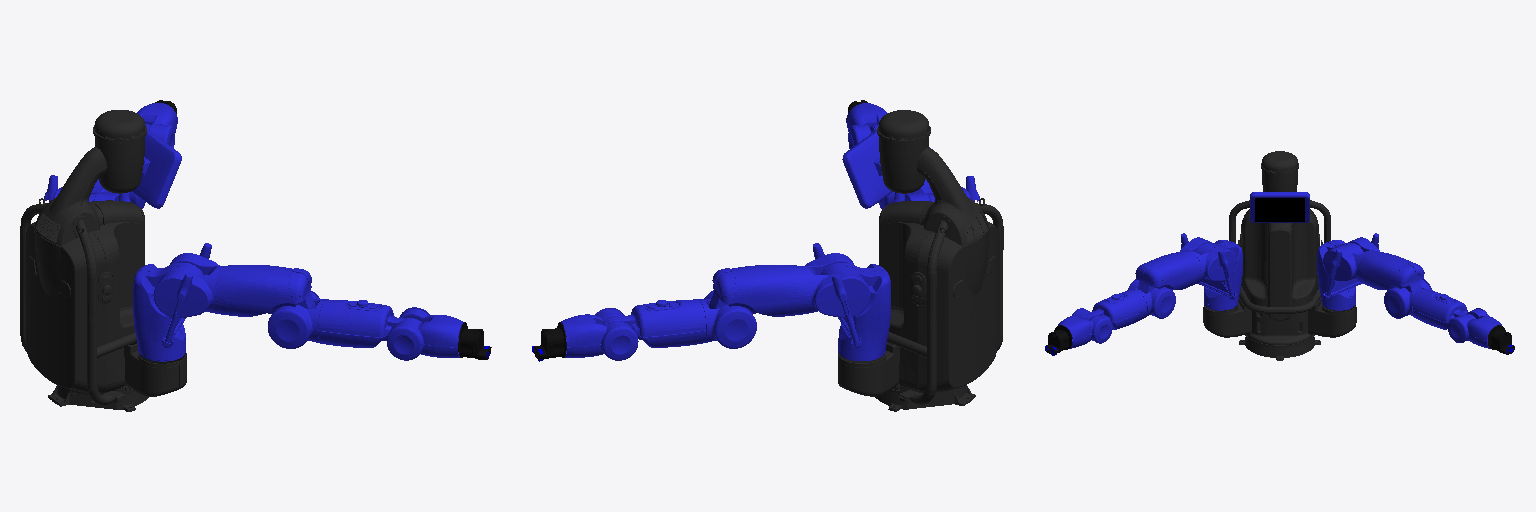
--- Render facts (derived) ---
3 views of the same robot in one strip: view 1: azimuth 30°, elevation 25°; view 2: azimuth 150°, elevation 25°; view 3: azimuth 270°, elevation 25° (orthographic).
Model baxter with 51 links and 50 joints (17 revolute, 33 fixed), rooted at base, posed every joint at zero.
Visible links, largest first — view 1: torso, right_upper_elbow, right_upper_shoulder, right_upper_forearm, right_lower_forearm, right_lower_shoulder, screen, right_lower_elbow, left_lower_forearm, right_wrist, head; view 2: torso, left_upper_elbow, left_upper_shoulder, left_upper_forearm, left_lower_forearm, left_lower_shoulder, screen, left_lower_elbow, right_lower_forearm, left_wrist, head; view 3: torso, left_upper_elbow, right_upper_elbow, right_upper_shoulder, left_upper_shoulder, right_upper_forearm, left_upper_forearm, left_lower_forearm, right_lower_forearm, display, left_lower_shoulder, right_lower_shoulder (+5 smaller).
Link boxes in pixels (box(x1,y1,x2,y2)): torso: box(20, 110, 186, 411); right_upper_elbow: box(214, 265, 315, 316); right_upper_shoulder: box(133, 243, 211, 361); right_upper_forearm: box(318, 299, 421, 347); right_lower_forearm: box(387, 307, 463, 360); right_lower_shoulder: box(153, 253, 221, 317); screen: box(132, 129, 181, 208); right_lower_elbow: box(268, 291, 325, 348); left_lower_forearm: box(137, 103, 177, 147); right_wrist: box(458, 322, 491, 359); head: box(99, 166, 142, 193); torso: box(838, 110, 1003, 411); left_upper_elbow: box(709, 265, 809, 316); left_upper_shoulder: box(813, 243, 890, 360); left_upper_forearm: box(601, 299, 705, 347); left_lower_forearm: box(561, 308, 638, 360); left_lower_shoulder: box(803, 253, 870, 317); screen: box(842, 130, 892, 208); left_lower_elbow: box(699, 290, 756, 348); right_lower_forearm: box(846, 103, 887, 148); left_wrist: box(534, 322, 566, 359); head: box(881, 166, 924, 193); torso: box(1203, 151, 1356, 360); left_upper_elbow: box(1357, 251, 1424, 293); right_upper_elbow: box(1135, 251, 1202, 293); right_upper_shoulder: box(1181, 233, 1242, 310); left_upper_shoulder: box(1317, 233, 1378, 310); right_upper_forearm: box(1083, 289, 1146, 329); left_upper_forearm: box(1413, 289, 1475, 329); left_lower_forearm: box(1448, 308, 1501, 348); right_lower_forearm: box(1058, 308, 1112, 348); display: box(1255, 198, 1304, 221); left_lower_shoulder: box(1323, 237, 1379, 281); right_lower_shoulder: box(1180, 237, 1236, 281).
Size in the robot's own frame: 1.06 by 2.07 by 0.9368 metres.
Meshes: 13 distinct files referenced, 17 mesh visuals loaded (10 binary STL); not drawn: 5 (reference not matched to a file when rendering).

URDF robot description (baxter):
<?xml version="1.0" encoding="utf-8"?>
<!-- =================================================================================== -->
<!-- |    This document was autogenerated by xacro from [local-path]/projects/mpi_system_baxter/workspace/src/catkin/robots/baxter_robot_model/models/baxter_kinect.urdf.xacro | -->
<!-- |    EDITING THIS FILE BY HAND IS NOT RECOMMENDED                                 | -->
<!-- =================================================================================== -->
<robot name="baxter">
  <link name="base">
  </link>
  <link name="torso">
    <visual>
      <origin rpy="0 0 0" xyz="0 0 0"/>
      <geometry>
        <mesh filename="package://baxter_robot_model/meshes/torso/base_link-simple.STL"/>
      </geometry>
      <material name="darkgray">
        <color rgba=".2 .2 .2 1"/>
      </material>
    </visual>
    <collision>
      <origin rpy="0 0 0" xyz="0 0 0"/>
      <geometry>
        <mesh filename="package://baxter_robot_model/meshes/torso/base_link_collision-simple.STL"/>
      </geometry>
    </collision>
    <inertial>
      <origin rpy="0 0 0" xyz="0.000000 0.000000 0.000000"/>
      <mass value="35.336455"/>
      <inertia ixx="1.849155" ixy="-0.000354" ixz="-0.154188" iyy="1.662671" iyz="0.003292" izz="0.802239"/>
    </inertial>
  </link>
  <link name="left_torso_itb">
    <inertial>
      <origin rpy="0 0 0" xyz="0.000000 0.000000 0.000000"/>
      <mass value="0.0001"/>
      <inertia ixx="1e-08" ixy="0" ixz="0" iyy="1e-08" iyz="0" izz="1e-08"/>
    </inertial>
  </link>
  <link name="right_torso_itb">
    <inertial>
      <origin rpy="0 0 0" xyz="0.000000 0.000000 0.000000"/>
      <mass value="0.0001"/>
      <inertia ixx="1e-08" ixy="0" ixz="0" iyy="1e-08" iyz="0" izz="1e-08"/>
    </inertial>
  </link>
  <link name="head">
    <visual>
      <origin rpy="0 0 0" xyz="0 0 .00953"/>
      <geometry>
        <mesh filename="package://baxter_robot_model/meshes/head/H0-simple.STL"/>
      </geometry>
      <material name="darkgray">
        <color rgba=".2 .2 .2 1"/>
      </material>
    </visual>
    <collision>
      <origin rpy="0 0 0" xyz="0.0 0 0.0"/>
      <geometry>
        <sphere radius="0.001"/>
      </geometry>
    </collision>
    <inertial>
      <origin rpy="0 0 0" xyz="0 0 0"/>
      <mass value="0.547767"/>
      <inertia ixx="0.004641" ixy="0.000159" ixz="0.000242" iyy="0.003295" iyz="-0.001324" izz="0.003415"/>
    </inertial>
  </link>
  <link name="sonar_ring">
    <visual>
      <origin rpy="0 0 0" xyz="-.0347 0 .00953"/>
      <geometry>
        <cylinder length="0.01" radius="0.085"/>
      </geometry>
      <material name="darkgray">
        <color rgba=".2 .2 .2 1"/>
      </material>
    </visual>
    <collision>
      <origin rpy="0 0 0" xyz="0.0 0 0.0"/>
      <geometry>
        <sphere radius="0.001"/>
      </geometry>
    </collision>
    <inertial>
      <origin rpy="0 0 0" xyz="0 0 0"/>
      <mass value="0.0001"/>
      <inertia ixx="1e-08" ixy="0" ixz="0" iyy="1e-08" iyz="0" izz="1e-08"/>
    </inertial>
  </link>
  <link name="screen">
    <visual>
      <origin rpy="0 -1.57079632679 0" xyz="0 -.00953 -.0347"/>
      <geometry>
        <mesh filename="package://baxter_robot_model/meshes/head/H1-simple.STL"/>
      </geometry>
      <material name="darkred">
        <color rgba="0.2 0.2 0.85 1.0"/>
      </material>
    </visual>
    <collision>
      <origin rpy="0 0 0" xyz="0.0 0 0.0"/>
      <geometry>
        <sphere radius="0.001"/>
      </geometry>
    </collision>
    <inertial>
      <origin rpy="0 0 0" xyz="0 0 0"/>
      <mass value="0.440171"/>
      <inertia ixx="0.004006" ixy="0.000230" ixz="0.000002" iyy="0.002800" iyz="0.000029" izz="0.001509"/>
    </inertial>
  </link>
  <link name="display">
    <visual>
      <origin rpy="0.2617993877991494 0 0" xyz="0 0 0"/>
      <geometry>
        <box size="0.218 0.16 0.001"/>
      </geometry>
      <material name="black">
        <color rgba="0 0 0 1"/>
      </material>
    </visual>
    <inertial>
      <origin rpy="0 0 0" xyz="0 0 0"/>
      <mass value="0.0001"/>
      <inertia ixx="1e-08" ixy="0" ixz="0" iyy="1e-08" iyz="0" izz="1e-08"/>
    </inertial>
  </link>
  <!-- ////////////////////////////////////////////////// -->
  <link name="camera_rgb_optical_frame">
    <!--   <visual>
      <origin rpy="0 0 0" xyz="0 0 0"/>
      <geometry>
        <mesh filename="model://asus_xtion_pro_camera/meshes/asus_xtion_pro_camera-simple.STL"/>
      </geometry>
      <material name="black">
        <color rgba="0 0 0 1"/>
      </material>
    </visual> -->
    <inertial>
      <origin rpy="0 0 0" xyz="0 0 0"/>
      <mass value="0.0001"/>
      <inertia ixx="1e-08" ixy="0" ixz="0" iyy="1e-08" iyz="0" izz="1e-08"/>
    </inertial>
  </link>
  <!-- <link name="gazebo_camera">
    <geometry>
      <mesh filename="package://baxter_description/asus_xtion_pro_camera/meshes/asus_xtion_pro_camera-simple.STL"/>
    </geometry>
    <material name="black">
      <color rgba="0 0 0 1"/>
    </material>
    <inertial>
      <origin rpy="0 0 0" xyz="0 0 0"/>
      <mass value="0.0001"/>
      <inertia ixx="1e-08" ixy="0" ixz="0" iyy="1e-08" iyz="0" izz="1e-08"/>
    </inertial>
  </link> -->
  <!-- ////////////////////////////////////////////////// -->
  <link name="head_camera">
    <inertial>
      <origin rpy="0 0 0" xyz="0 0 0"/>
      <mass value="0.0001"/>
      <inertia ixx="1e-08" ixy="0" ixz="0" iyy="1e-08" iyz="0" izz="1e-08"/>
    </inertial>
  </link>
  <link name="dummyhead1">
    <inertial>
      <origin rpy="0 0 0" xyz="0 0 0"/>
      <mass value="0.0001"/>
      <inertia ixx="1e-08" ixy="0" ixz="0" iyy="1e-08" iyz="0" izz="1e-08"/>
    </inertial>
  </link>
  <link name="collision_head_link_1">
    <visual>
      <origin rpy="0 0 0" xyz="0 0 0"/>
      <geometry>
        <sphere radius="0.001"/>
      </geometry>
      <material name="red">
        <color rgba="0.2 0.2 0.85 1.0"/>
      </material>
    </visual>
    <collision>
      <origin rpy="0 0 0.0" xyz="-0.07 -0.04 0.0"/>
      <geometry>
        <sphere radius="0.22"/>
      </geometry>
    </collision>
    <inertial>
      <origin rpy="0 0 0" xyz="0 0 0"/>
      <mass value="0.0001"/>
      <inertia ixx="1e-08" ixy="0" ixz="0" iyy="1e-08" iyz="0" izz="1e-08"/>
    </inertial>
  </link>
  <link name="collision_head_link_2">
    <visual>
      <origin rpy="0 0 0" xyz="0 0 0"/>
      <geometry>
        <sphere radius="0.001"/>
      </geometry>
      <material name="red">
        <color rgba="0.2 0.2 0.85 1.0"/>
      </material>
    </visual>
    <collision>
      <origin rpy="0 0 0" xyz="-0.07 0.04 0.00"/>
      <geometry>
        <sphere radius="0.22"/>
      </geometry>
    </collision>
    <inertial>
      <origin rpy="0 0 0" xyz="0 0 0"/>
      <mass value="0.0001"/>
      <inertia ixx="1e-08" ixy="0" ixz="0" iyy="1e-08" iyz="0" izz="1e-08"/>
    </inertial>
  </link>
  <joint name="collision_head_1" type="fixed">
    <origin rpy="0 0 0" xyz="0.11 0 0.75"/>
    <parent link="base"/>
    <child link="collision_head_link_1"/>
  </joint>
  <joint name="collision_head_2" type="fixed">
    <origin rpy="0 0 0" xyz="0.11 0 0.75"/>
    <parent link="base"/>
    <child link="collision_head_link_2"/>
  </joint>
  <joint name="dummy" type="fixed">
    <origin rpy="0 0 0" xyz="0 0 0"/>
    <parent link="head"/>
    <child link="dummyhead1"/>
  </joint>
  <joint name="torso_t0" type="revolute">
    <origin rpy="0 0 0" xyz="0 0 0"/>
    <parent link="base"/>
    <child link="torso"/>
    <limit effort="50000" lower="-1.3963" upper="1.3963" velocity="10000"/>
  </joint>
  <joint name="left_torso_itb_fixed" type="fixed">
    <origin rpy="-1.57079632679 3.1415 0" xyz="-0.08897 0.15593 0.389125"/>
    <parent link="torso"/>
    <child link="left_torso_itb"/>
  </joint>
  <joint name="right_torso_itb_fixed" type="fixed">
    <origin rpy="1.57079632679 0 0" xyz="-0.08897 -0.15593 0.389125"/>
    <parent link="torso"/>
    <child link="right_torso_itb"/>
  </joint>
  <joint name="head_pan" type="revolute">
    <origin rpy="0 0 0" xyz="0.06 0 0.686"/>
    <axis xyz="0 0 1"/>
    <parent link="torso"/>
    <child link="head"/>
    <limit effort="50000" lower="-1.3963" upper="1.3963" velocity="10000"/>
    <dynamics damping="0.7" friction="0.0"/>
  </joint>
  <joint name="head_nod" type="revolute">
    <origin rpy="1.75057 0 1.57079632679" xyz=".1227 0 0"/>
    <parent link="head"/>
    <child link="screen"/>
    <limit effort="50000" lower="-1.3963" upper="1.3963" velocity="10000"/>
  </joint>
  <joint name="head_camera" type="fixed">
    <origin rpy="1.75057 0 1.57079632679" xyz="0.12839 0 0.06368"/>
    <parent link="head"/>
    <child link="head_camera"/>
  </joint>
  <joint name="display_joint" type="fixed">
    <origin rpy="0 0 0" xyz="0.0 -0.016 0.0"/>
    <parent link="screen"/>
    <child link="display"/>
  </joint>
  <!-- /////////////////////////////////////////////////// -->
  <joint name="head_kinect" type="fixed">
    <origin rpy="-0.843 -0.075 3.075" xyz="0.073 0.075 0.014"/>
    <!-- rpy="-0.6 0 3.14159" xyz="0.08 0.00 0.02 -->
    <parent link="screen"/>
    <child link="camera_rgb_optical_frame"/>
  </joint>
  <!-- gazebo camera position -->
  <!-- <joint name="camera_joint_for_gazebo" type="fixed"> -->
  <!-- <origin rpy="0 -1.45 -1.57" xyz="0.07 0.11 0.0"/>-->
  <!-- <parent link="screen"/> -->
  <!-- <child link="gazebo_camera"/> -->
  <!-- </joint> -->
  <!-- /////////////////////////////////////////////////// -->
  <joint name="sonar_s0" type="fixed">
    <origin rpy="0 0 0" xyz="0.0947 0 .817"/>
    <axis xyz="0 0 1"/>
    <parent link="torso"/>
    <child link="sonar_ring"/>
  </joint>
  <link name="right_arm_mount">
    <!-- all defaults -->
    <inertial>
      <origin rpy="0 0 0" xyz="0 0 0"/>
      <mass value="0.0001"/>
      <inertia ixx="1e-08" ixy="0" ixz="0" iyy="1e-08" iyz="0" izz="1e-08"/>
    </inertial>
  </link>
  <link name="right_upper_shoulder">
    <visual>
      <origin rpy="0 0 0" xyz="0 0 0"/>
      <geometry>
        <mesh filename="package://baxter_robot_model/meshes/upper_shoulder/S0-simple.STL"/>
      </geometry>
      <material name="darkred">
        <color rgba="0.2 0.2 0.85 1.0"/>
      </material>
    </visual>
    <collision>
      <origin rpy="0 0 0" xyz="0 0 0.1361"/>
      <geometry>
        <cylinder length="0.2722" radius="0.06"/>
      </geometry>
    </collision>
    <inertial>
      <origin rpy="0 0 0" xyz="0.01783 0.00086 0.19127"/>
      <mass value="5.70044"/>
      <inertia ixx="0.04709102262" ixy="0.00012787556" ixz="0.00614870039" iyy="0.03766976455" iyz="0.00078086899" izz="0.03595988478"/>
    </inertial>
  </link>
  <link name="right_lower_shoulder">
    <visual>
      <origin rpy="0 0 0" xyz="0 0 0"/>
      <geometry>
        <mesh filename="package://baxter_robot_model/meshes/lower_shoulder/S1-simple.STL"/>
      </geometry>
      <material name="darkred">
        <color rgba="0.2 0.2 0.85 1.0"/>
      </material>
    </visual>
    <collision>
      <origin rpy="0 0 0" xyz="0 0 0"/>
      <geometry>
        <cylinder length="0.12" radius="0.06"/>
      </geometry>
    </collision>
    <inertial>
      <origin rpy="0 0 0" xyz="0.06845 0.00269 -0.00529"/>
      <mass value="3.22698"/>
      <inertia ixx="0.01175209419" ixy="-0.00030096398" ixz="0.00207675762" iyy="0.0278859752" iyz="-0.00018821993" izz="0.02078749298"/>
    </inertial>
  </link>
  <link name="right_upper_elbow">
    <visual>
      <origin rpy="0 0 0" xyz="0 0 0"/>
      <geometry>
        <mesh filename="package://baxter_robot_model/meshes/upper_elbow/E0-simple.STL"/>
      </geometry>
      <material name="darkred">
        <color rgba="0.2 0.2 0.85 1.0"/>
      </material>
    </visual>
    <collision>
      <origin rpy="0 0 0" xyz="0 0 -0.0535"/>
      <geometry>
        <cylinder length="0.107" radius="0.06"/>
      </geometry>
    </collision>
    <inertial>
      <origin rpy="0 0 0" xyz="-0.00276 0.00132 0.18086"/>
      <mass value="4.31272"/>
      <inertia ixx="0.02661733557" ixy="0.00029270634" ixz="0.00392189887" iyy="0.02844355207" iyz="0.0010838933" izz="0.01248008322"/>
    </inertial>
  </link>
  <link name="right_upper_elbow_visual">
    <collision>
      <origin rpy="0 0 0" xyz="0 0 0.1365"/>
      <geometry>
        <cylinder length="0.273" radius="0.06"/>
      </geometry>
    </collision>
    <inertial>
      <origin rpy="0 0 0" xyz="0 0 0"/>
      <mass value="0.0001"/>
      <inertia ixx="1e-08" ixy="0" ixz="0" iyy="1e-08" iyz="0" izz="1e-08"/>
    </inertial>
  </link>
  <link name="right_lower_elbow">
    <visual>
      <origin rpy="0 0 0" xyz="0 0 0"/>
      <geometry>
        <mesh filename="package://baxter_robot_model/meshes/lower_elbow/E1-simple.STL"/>
      </geometry>
      <material name="darkred">
        <color rgba="0.2 0.2 0.85 1.0"/>
      </material>
    </visual>
    <collision>
      <origin rpy="0 0 0" xyz="0.0 0.0 0.0"/>
      <geometry>
        <cylinder length="0.10" radius="0.06"/>
      </geometry>
    </collision>
    <inertial>
      <origin rpy="0 0 0" xyz="0.02611 0.00159 -0.01117"/>
      <mass value="2.07206"/>
      <inertia ixx="0.00711582686" ixy="0.00036036173" ixz="0.0007459496" iyy="0.01318227876" iyz="-0.00019663418" izz="0.00926852064"/>
    </inertial>
  </link>
  <link name="right_upper_forearm">
    <visual>
      <origin rpy="0 0 0" xyz="0 0 0"/>
      <geometry>
        <mesh filename="package://baxter_robot_model/meshes/upper_forearm/W0-simple.STL"/>
      </geometry>
      <material name="darkred">
        <color rgba="0.2 0.2 0.85 1.0"/>
      </material>
    </visual>
    <collision>
      <origin rpy="0 0 0" xyz="0 0 -0.044"/>
      <geometry>
        <cylinder length="0.088" radius="0.06"/>
      </geometry>
    </collision>
    <inertial>
      <origin rpy="0 0 0" xyz="-0.00168 0.0046 0.13952"/>
      <mass value="2.24665"/>
      <inertia ixx="0.01667742825" ixy="0.00018403705" ixz="0.00018657629" iyy="0.01675457264" iyz="-0.00064732352" izz="0.0037463115"/>
    </inertial>
  </link>
  <link name="right_upper_forearm_visual">
    <collision>
      <origin rpy="0 0 0" xyz="0 0 0.136"/>
      <geometry>
        <cylinder length="0.272" radius="0.06"/>
      </geometry>
    </collision>
    <inertial>
      <origin rpy="0 0 0" xyz="0 0 0"/>
      <mass value="0.0001"/>
      <inertia ixx="1e-08" ixy="0" ixz="0" iyy="1e-08" iyz="0" izz="1e-08"/>
    </inertial>
  </link>
  <link name="right_arm_itb">
    <inertial>
      <origin rpy="0 0 0" xyz="0.000000 0.000000 0.000000"/>
      <mass value="0.0001"/>
      <inertia ixx="1e-08" ixy="0" ixz="0" iyy="1e-08" iyz="0" izz="1e-08"/>
    </inertial>
  </link>
  <link name="right_lower_forearm">
    <visual>
      <origin rpy="0 0 0" xyz="0 0 0"/>
      <geometry>
        <mesh filename="package://baxter_robot_model/meshes/lower_forearm/W1-simple.STL"/>
      </geometry>
      <material name="darkred">
        <color rgba="0.2 0.2 0.85 1.0"/>
      </material>
    </visual>
    <collision>
      <origin rpy="0 0 0" xyz="0 0 0"/>
      <geometry>
        <cylinder length="0.10" radius="0.06"/>
      </geometry>
    </collision>
    <inertial>
      <origin rpy="0 0 0" xyz="0.06041 0.00697 0.006"/>
      <mass value="1.60979"/>
      <inertia ixx="0.00387607152" ixy="-0.00044384784" ixz="-0.00021115038" iyy="0.00700537914" iyz="0.00015348067" izz="0.0055275524"/>
    </inertial>
  </link>
  <link name="right_wrist">
    <visual>
      <origin rpy="0 0 0" xyz="0 0 0"/>
      <geometry>
        <mesh filename="package://baxter_robot_model/meshes/wrist/W2-simple.STL"/>
      </geometry>
      <material name="lightgrey">
        <color rgba=".1 .1 .1 1"/>
      </material>
    </visual>
    <collision>
      <origin rpy="0 0 0" xyz="0 0 0"/>
      <geometry>
        <cylinder length="0.165" radius="0.06"/>
      </geometry>
    </collision>
    <inertial>
      <origin rpy="0 0 0" xyz="0.00198 0.00125 0.01855"/>
      <mass value="0.35093"/>
      <inertia ixx="0.00025289155" ixy="0.00000575311" ixz="-0.00000159345" iyy="0.0002688601" iyz="-0.00000519818" izz="0.0003074118"/>
    </inertial>
  </link>
  <link name="right_hand">
    <collision>
      <origin rpy="0 0 0" xyz="0 0 -0.0232"/>
      <geometry>
        <cylinder length="0.0464" radius="0.04"/>
      </geometry>
    </collision>
    <inertial>
      <origin rpy="0 0 0" xyz="0.01093 0.00042 -0.01532"/>
      <mass value="0.19125"/>
      <inertia ixx="0.00017588" ixy="0.00000147073" ixz="0.0000243633" iyy="0.00021166377" iyz="0.00000172689" izz="0.00023745397"/>
    </inertial>
  </link>
  <link name="right_hand_camera">
    <visual>
      <origin rpy="0 0 0" xyz="0 0 0"/>
      <geometry>
        <cylinder length="0.01" radius="0.02"/>
      </geometry>
      <material name="blue">
        <color rgba="0 0 1 0.8"/>
      </material>
    </visual>
    <inertial>
      <origin rpy="0 0 0" xyz="0 0 0"/>
      <mass value="0.0001"/>
      <inertia ixx="1e-08" ixy="0" ixz="0" iyy="1e-08" iyz="0" izz="1e-08"/>
    </inertial>
  </link>
  <link name="right_hand_camera_axis">
    <inertial>
      <origin rpy="0 0 0" xyz="0 0 0"/>
      <mass value="0.0001"/>
      <inertia ixx="1e-08" ixy="0" ixz="0" iyy="1e-08" iyz="0" izz="1e-08"/>
    </inertial>
  </link>
  <link name="right_hand_range">
    <visual>
      <origin rpy="0 0 0" xyz="0 0 0"/>
      <geometry>
        <box size="0.005 .02 .005"/>
      </geometry>
      <material name="blue">
        <color rgba="0 0 1 0.8"/>
      </material>
    </visual>
    <inertial>
      <origin rpy="0 0 0" xyz="0 0 0"/>
      <mass value="0.0001"/>
      <inertia ixx="1e-08" ixy="0" ixz="0" iyy="1e-08" iyz="0" izz="1e-08"/>
    </inertial>
  </link>
  <link name="right_hand_accelerometer">
    <visual>
      <origin rpy="0 0 0" xyz="0 0 0"/>
      <geometry>
        <box size="0.01 0.01 0.01"/>
      </geometry>
      <material name="black">
        <color rgba="0 0 0 1"/>
      </material>
    </visual>
    <inertial>
      <origin rpy="0 0 0" xyz="0.000000 0.000000 0.000000"/>
      <mass value="0.0001"/>
      <inertia ixx="1e-08" ixy="0" ixz="0" iyy="1e-08" iyz="0" izz="1e-08"/>
    </inertial>
  </link>
  <joint name="right_torso_arm_mount" type="fixed">
    <origin rpy="0 0 -0.7854" xyz="0.024645 -0.219645 0.118588"/>
    <parent link="torso"/>
    <child link="right_arm_mount"/>
  </joint>
  <joint name="right_s0" type="revolute">
    <origin rpy="0 0 0" xyz="0.055695 0 0.011038"/>
    <axis xyz="0 0 1"/>
    <parent link="right_arm_mount"/>
    <child link="right_upper_shoulder"/>
    <limit effort="50.0" lower="-1.70167993878" upper="1.70167993878" velocity="1.5"/>
    <dynamics damping="0.7" friction="0.0"/>
  </joint>
  <joint name="right_s1" type="revolute">
    <origin rpy="-1.57079632679 0 0" xyz="0.069 0 0.27035"/>
    <axis xyz="0 0 1"/>
    <parent link="right_upper_shoulder"/>
    <child link="right_lower_shoulder"/>
    <limit effort="50.0" lower="-2.147" upper="1.047" velocity="1.5"/>
    <dynamics damping="0.7" friction="0.0"/>
  </joint>
  <joint name="right_e0" type="revolute">
    <origin rpy="1.57079632679 0 1.57079632679" xyz="0.102 0 0"/>
    <axis xyz="0 0 1"/>
    <parent link="right_lower_shoulder"/>
    <child link="right_upper_elbow"/>
    <limit effort="50.0" lower="-3.05417993878" upper="3.05417993878" velocity="1.5"/>
    <dynamics damping="0.7" friction="0.0"/>
  </joint>
  <joint name="right_e0_fixed" type="fixed">
    <origin rpy="1.57079632679 0 1.57079632679" xyz="0.107 0 0"/>
    <axis xyz="0 0 1"/>
    <parent link="right_lower_shoulder"/>
    <child link="right_upper_elbow_visual"/>
  </joint>
  <joint name="right_e1" type="revolute">
    <origin rpy="-1.57079632679 -1.57079632679 0" xyz="0.069 0 0.26242"/>
    <axis xyz="0 0 1"/>
    <parent link="right_upper_elbow"/>
    <child link="right_lower_elbow"/>
    <limit effort="50.0" lower="-0.05" upper="2.618" velocity="1.5"/>
    <dynamics damping="0.7" friction="0.0"/>
  </joint>
  <joint name="right_w0" type="revolute">
    <origin rpy="1.57079632679 0 1.57079632679" xyz="0.10359 0 0"/>
    <axis xyz="0 0 1"/>
    <parent link="right_lower_elbow"/>
    <child link="right_upper_forearm"/>
    <limit effort="15.0" lower="-3.059" upper="3.059" velocity="4.0"/>
    <dynamics damping="0.7" friction="0.0"/>
  </joint>
  <joint name="right_w0_fixed" type="fixed">
    <origin rpy="1.57079632679 0 1.57079632679" xyz="0.088 0 0"/>
    <axis xyz="0 0 1"/>
    <parent link="right_lower_elbow"/>
    <child link="right_upper_forearm_visual"/>
  </joint>
  <joint name="right_w0_to_itb_fixed" type="fixed">
    <origin rpy="-1.57079632679 0 1.57079632679" xyz="-0.0565 0 0.12"/>
    <axis xyz="0 0 1"/>
    <parent link="right_upper_forearm"/>
    <child link="right_arm_itb"/>
  </joint>
  <joint name="right_w1" type="revolute">
    <origin rpy="-1.57079632679 -1.57079632679 0" xyz="0.01 0 0.2707"/>
    <axis xyz="0 0 1"/>
    <parent link="right_upper_forearm"/>
    <child link="right_lower_forearm"/>
    <limit effort="15.0" lower="-1.57079632679" upper="2.094" velocity="4.0"/>
    <dynamics damping="0.7" friction="0.0"/>
  </joint>
  <joint name="right_w2" type="revolute">
    <origin rpy="1.57079632679 0 1.57079632679" xyz="0.115975 0 0"/>
    <axis xyz="0 0 1"/>
    <parent link="right_lower_forearm"/>
    <child link="right_wrist"/>
    <limit effort="15.0" lower="-3.059" upper="3.059" velocity="4.0"/>
    <dynamics damping="0.7" friction="0.0"/>
  </joint>
  <joint name="right_hand" type="fixed">
    <origin rpy="0 0 0" xyz="0 0 0.11355"/>
    <axis xyz="0 0 1"/>
    <parent link="right_wrist"/>
    <child link="right_hand"/>
  </joint>
  <joint name="right_hand_camera" type="fixed">
    <origin rpy="0 0 -1.57079633" xyz="0.03825 0.012 0.015355"/>
    <parent link="right_hand"/>
    <child link="right_hand_camera"/>
  </joint>
  <joint name="right_hand_camera_axis" type="fixed">
    <origin rpy="0 0 0" xyz="0.03825 0.012 0.015355"/>
    <parent link="right_hand"/>
    <child link="right_hand_camera_axis"/>
  </joint>
  <joint name="right_hand_range" type="fixed">
    <origin rpy="0 -1.57079632679 -1.57079632679" xyz="0.032 -0.020245 0.0288"/>
    <parent link="right_hand"/>
    <child link="right_hand_range"/>
  </joint>
  <joint name="right_hand_accelerometer" type="fixed">
    <origin rpy="0 0 0" xyz="0.00198 0.000133 -0.0146"/>
    <parent link="right_hand"/>
    <child link="right_hand_accelerometer"/>
  </joint>
  <link name="left_arm_mount">
    <!-- all defaults -->
    <inertial>
      <origin rpy="0 0 0" xyz="0 0 0"/>
      <mass value="0.0001"/>
      <inertia ixx="1e-08" ixy="0" ixz="0" iyy="1e-08" iyz="0" izz="1e-08"/>
    </inertial>
  </link>
  <link name="left_upper_shoulder">
    <visual>
      <origin rpy="0 0 0" xyz="0 0 0"/>
      <geometry>
        <mesh filename="package://baxter_robot_model/meshes/upper_shoulder/S0-simple.STL"/>
      </geometry>
      <material name="darkred">
        <color rgba="0.2 0.2 0.85 1.0"/>
      </material>
    </visual>
    <collision>
      <origin rpy="0 0 0" xyz="0 0 0.1361"/>
      <geometry>
        <cylinder length="0.2722" radius="0.06"/>
      </geometry>
    </collision>
    <inertial>
      <origin rpy="0 0 0" xyz="0.01783 0.00086 0.19127"/>
      <mass value="5.70044"/>
      <inertia ixx="0.04709102262" ixy="0.00012787556" ixz="0.00614870039" iyy="0.03766976455" iyz="0.00078086899" izz="0.03595988478"/>
    </inertial>
  </link>
  <link name="left_lower_shoulder">
    <visual>
      <origin rpy="0 0 0" xyz="0 0 0"/>
      <geometry>
        <mesh filename="package://baxter_robot_model/meshes/lower_shoulder/S1-simple.STL"/>
      </geometry>
      <material name="darkred">
        <color rgba="0.2 0.2 0.85 1.0"/>
      </material>
    </visual>
    <collision>
      <origin rpy="0 0 0" xyz="0 0 0"/>
      <geometry>
        <cylinder length="0.12" radius="0.06"/>
      </geometry>
    </collision>
    <inertial>
      <origin rpy="0 0 0" xyz="0.06845 0.00269 -0.00529"/>
      <mass value="3.22698"/>
      <inertia ixx="0.01175209419" ixy="-0.00030096398" ixz="0.00207675762" iyy="0.0278859752" iyz="-0.00018821993" izz="0.02078749298"/>
    </inertial>
  </link>
  <link name="left_upper_elbow">
    <visual>
      <origin rpy="0 0 0" xyz="0 0 0"/>
      <geometry>
        <mesh filename="package://baxter_robot_model/meshes/upper_elbow/E0-simple.STL"/>
      </geometry>
      <material name="darkred">
        <color rgba="0.2 0.2 0.85 1.0"/>
      </material>
    </visual>
    <collision>
      <origin rpy="0 0 0" xyz="0 0 -0.0535"/>
      <geometry>
        <cylinder length="0.107" radius="0.06"/>
      </geometry>
    </collision>
    <inertial>
      <origin rpy="0 0 0" xyz="-0.00276 0.00132 0.18086"/>
      <mass value="4.31272"/>
      <inertia ixx="0.02661733557" ixy="0.00029270634" ixz="0.00392189887" iyy="0.02844355207" iyz="0.0010838933" izz="0.01248008322"/>
    </inertial>
  </link>
  <link name="left_upper_elbow_visual">
    <collision>
      <origin rpy="0 0 0" xyz="0 0 0.1365"/>
      <geometry>
        <cylinder length="0.273" radius="0.06"/>
      </geometry>
    </collision>
    <inertial>
      <origin rpy="0 0 0" xyz="0 0 0"/>
      <mass value="0.0001"/>
      <inertia ixx="1e-08" ixy="0" ixz="0" iyy="1e-08" iyz="0" izz="1e-08"/>
    </inertial>
  </link>
  <link name="left_lower_elbow">
    <visual>
      <origin rpy="0 0 0" xyz="0 0 0"/>
      <geometry>
        <mesh filename="package://baxter_robot_model/meshes/lower_elbow/E1-simple.STL"/>
      </geometry>
      <material name="darkred">
        <color rgba="0.2 0.2 0.85 1.0"/>
      </material>
    </visual>
    <collision>
      <origin rpy="0 0 0" xyz="0.0 0.0 0.0"/>
      <geometry>
        <cylinder length="0.10" radius="0.06"/>
      </geometry>
    </collision>
    <inertial>
      <origin rpy="0 0 0" xyz="0.02611 0.00159 -0.01117"/>
      <mass value="2.07206"/>
      <inertia ixx="0.00711582686" ixy="0.00036036173" ixz="0.0007459496" iyy="0.01318227876" iyz="-0.00019663418" izz="0.00926852064"/>
    </inertial>
  </link>
  <link name="left_upper_forearm">
    <visual>
      <origin rpy="0 0 0" xyz="0 0 0"/>
      <geometry>
        <mesh filename="package://baxter_robot_model/meshes/upper_forearm/W0-simple.STL"/>
      </geometry>
      <material name="darkred">
        <color rgba="0.2 0.2 0.85 1.0"/>
      </material>
    </visual>
    <collision>
      <origin rpy="0 0 0" xyz="0 0 -0.044"/>
      <geometry>
        <cylinder length="0.088" radius="0.06"/>
      </geometry>
    </collision>
    <inertial>
      <origin rpy="0 0 0" xyz="-0.00168 0.0046 0.13952"/>
      <mass value="2.24665"/>
      <inertia ixx="0.01667742825" ixy="0.00018403705" ixz="0.00018657629" iyy="0.01675457264" iyz="-0.00064732352" izz="0.0037463115"/>
    </inertial>
  </link>
  <link name="left_upper_forearm_visual">
    <collision>
      <origin rpy="0 0 0" xyz="0 0 0.136"/>
      <geometry>
        <cylinder length="0.272" radius="0.06"/>
      </geometry>
    </collision>
    <inertial>
      <origin rpy="0 0 0" xyz="0 0 0"/>
      <mass value="0.0001"/>
      <inertia ixx="1e-08" ixy="0" ixz="0" iyy="1e-08" iyz="0" izz="1e-08"/>
    </inertial>
  </link>
  <link name="left_arm_itb">
    <inertial>
      <origin rpy="0 0 0" xyz="0.000000 0.000000 0.000000"/>
      <mass value="0.0001"/>
      <inertia ixx="1e-08" ixy="0" ixz="0" iyy="1e-08" iyz="0" izz="1e-08"/>
    </inertial>
  </link>
  <link name="left_lower_forearm">
    <visual>
      <origin rpy="0 0 0" xyz="0 0 0"/>
      <geometry>
        <mesh filename="package://baxter_robot_model/meshes/lower_forearm/W1-simple.STL"/>
      </geometry>
      <material name="darkred">
        <color rgba="0.2 0.2 0.85 1.0"/>
      </material>
    </visual>
    <collision>
      <origin rpy="0 0 0" xyz="0 0 0"/>
      <geometry>
        <cylinder length="0.10" radius="0.06"/>
      </geometry>
    </collision>
    <inertial>
      <origin rpy="0 0 0" xyz="0.06041 0.00697 0.006"/>
      <mass value="1.60979"/>
      <inertia ixx="0.00387607152" ixy="-0.00044384784" ixz="-0.00021115038" iyy="0.00700537914" iyz="0.00015348067" izz="0.0055275524"/>
    </inertial>
  </link>
  <link name="left_wrist">
    <visual>
      <origin rpy="0 0 0" xyz="0 0 0"/>
      <geometry>
        <mesh filename="package://baxter_robot_model/meshes/wrist/W2-simple.STL"/>
      </geometry>
      <material name="lightgrey">
        <color rgba=".1 .1 .1 1"/>
      </material>
    </visual>
    <collision>
      <origin rpy="0 0 0" xyz="0 0 0"/>
      <geometry>
        <cylinder length="0.165" radius="0.06"/>
      </geometry>
    </collision>
    <inertial>
      <origin rpy="0 0 0" xyz="0.00198 0.00125 0.01855"/>
      <mass value="0.35093"/>
      <inertia ixx="0.00025289155" ixy="0.00000575311" ixz="-0.00000159345" iyy="0.0002688601" iyz="-0.00000519818" izz="0.0003074118"/>
    </inertial>
  </link>
  <link name="left_hand">
    <collision>
      <origin rpy="0 0 0" xyz="0 0 -0.0232"/>
      <geometry>
        <cylinder length="0.0464" radius="0.04"/>
      </geometry>
    </collision>
    <inertial>
      <origin rpy="0 0 0" xyz="0.01093 0.00042 -0.01532"/>
      <mass value="0.19125"/>
      <inertia ixx="0.00017588" ixy="0.00000147073" ixz="0.0000243633" iyy="0.00021166377" iyz="0.00000172689" izz="0.00023745397"/>
    </inertial>
  </link>
  <link name="left_hand_camera">
    <visual>
      <origin rpy="0 0 0" xyz="0 0 0"/>
      <geometry>
        <cylinder length="0.01" radius="0.02"/>
      </geometry>
      <material name="blue">
        <color rgba="0 0 1 0.8"/>
      </material>
    </visual>
    <inertial>
      <origin rpy="0 0 0" xyz="0 0 0"/>
      <mass value="0.0001"/>
      <inertia ixx="1e-08" ixy="0" ixz="0" iyy="1e-08" iyz="0" izz="1e-08"/>
    </inertial>
  </link>
  <link name="left_hand_camera_axis">
    <inertial>
      <origin rpy="0 0 0" xyz="0 0 0"/>
      <mass value="0.0001"/>
      <inertia ixx="1e-08" ixy="0" ixz="0" iyy="1e-08" iyz="0" izz="1e-08"/>
    </inertial>
  </link>
  <link name="left_hand_range">
    <visual>
      <origin rpy="0 0 0" xyz="0 0 0"/>
      <geometry>
        <box size="0.005 .02 .005"/>
      </geometry>
      <material name="blue">
        <color rgba="0 0 1 0.8"/>
      </material>
    </visual>
    <inertial>
      <origin rpy="0 0 0" xyz="0 0 0"/>
      <mass value="0.0001"/>
      <inertia ixx="1e-08" ixy="0" ixz="0" iyy="1e-08" iyz="0" izz="1e-08"/>
    </inertial>
  </link>
  <link name="left_hand_accelerometer">
    <visual>
      <origin rpy="0 0 0" xyz="0 0 0"/>
      <geometry>
        <box size="0.01 0.01 0.01"/>
      </geometry>
      <material name="black">
        <color rgba="0 0 0 1"/>
      </material>
    </visual>
    <inertial>
      <origin rpy="0 0 0" xyz="0.000000 0.000000 0.000000"/>
      <mass value="0.0001"/>
      <inertia ixx="1e-08" ixy="0" ixz="0" iyy="1e-08" iyz="0" izz="1e-08"/>
    </inertial>
  </link>
  <joint name="left_torso_arm_mount" type="fixed">
    <origin rpy="0 0 0.7854" xyz="0.024645 0.219645 0.118588"/>
    <parent link="torso"/>
    <child link="left_arm_mount"/>
  </joint>
  <joint name="left_s0" type="revolute">
    <origin rpy="0 0 0" xyz="0.055695 0 0.011038"/>
    <axis xyz="0 0 1"/>
    <parent link="left_arm_mount"/>
    <child link="left_upper_shoulder"/>
    <limit effort="50.0" lower="-1.70167993878" upper="1.70167993878" velocity="1.5"/>
    <dynamics damping="0.7" friction="0.0"/>
  </joint>
  <joint name="left_s1" type="revolute">
    <origin rpy="-1.57079632679 0 0" xyz="0.069 0 0.27035"/>
    <axis xyz="0 0 1"/>
    <parent link="left_upper_shoulder"/>
    <child link="left_lower_shoulder"/>
    <limit effort="50.0" lower="-2.147" upper="1.047" velocity="1.5"/>
    <dynamics damping="0.7" friction="0.0"/>
  </joint>
  <joint name="left_e0" type="revolute">
    <origin rpy="1.57079632679 0 1.57079632679" xyz="0.102 0 0"/>
    <axis xyz="0 0 1"/>
    <parent link="left_lower_shoulder"/>
    <child link="left_upper_elbow"/>
    <limit effort="50.0" lower="-3.05417993878" upper="3.05417993878" velocity="1.5"/>
    <dynamics damping="0.7" friction="0.0"/>
  </joint>
  <joint name="left_e0_fixed" type="fixed">
    <origin rpy="1.57079632679 0 1.57079632679" xyz="0.107 0 0"/>
    <axis xyz="0 0 1"/>
    <parent link="left_lower_shoulder"/>
    <child link="left_upper_elbow_visual"/>
  </joint>
  <joint name="left_e1" type="revolute">
    <origin rpy="-1.57079632679 -1.57079632679 0" xyz="0.069 0 0.26242"/>
    <axis xyz="0 0 1"/>
    <parent link="left_upper_elbow"/>
    <child link="left_lower_elbow"/>
    <limit effort="50.0" lower="-0.05" upper="2.618" velocity="1.5"/>
    <dynamics damping="0.7" friction="0.0"/>
  </joint>
  <joint name="left_w0" type="revolute">
    <origin rpy="1.57079632679 0 1.57079632679" xyz="0.10359 0 0"/>
    <axis xyz="0 0 1"/>
    <parent link="left_lower_elbow"/>
    <child link="left_upper_forearm"/>
    <limit effort="15.0" lower="-3.059" upper="3.059" velocity="4.0"/>
    <dynamics damping="0.7" friction="0.0"/>
  </joint>
  <joint name="left_w0_fixed" type="fixed">
    <origin rpy="1.57079632679 0 1.57079632679" xyz="0.088 0 0"/>
    <axis xyz="0 0 1"/>
    <parent link="left_lower_elbow"/>
    <child link="left_upper_forearm_visual"/>
  </joint>
  <joint name="left_w0_to_itb_fixed" type="fixed">
    <origin rpy="-1.57079632679 0 1.57079632679" xyz="-0.0565 0 0.12"/>
    <axis xyz="0 0 1"/>
    <parent link="left_upper_forearm"/>
    <child link="left_arm_itb"/>
  </joint>
  <joint name="left_w1" type="revolute">
    <origin rpy="-1.57079632679 -1.57079632679 0" xyz="0.01 0 0.2707"/>
    <axis xyz="0 0 1"/>
    <parent link="left_upper_forearm"/>
    <child link="left_lower_forearm"/>
    <limit effort="15.0" lower="-1.57079632679" upper="2.094" velocity="4.0"/>
    <dynamics damping="0.7" friction="0.0"/>
  </joint>
  <joint name="left_w2" type="revolute">
    <origin rpy="1.57079632679 0 1.57079632679" xyz="0.115975 0 0"/>
    <axis xyz="0 0 1"/>
    <parent link="left_lower_forearm"/>
    <child link="left_wrist"/>
    <limit effort="15.0" lower="-3.059" upper="3.059" velocity="4.0"/>
    <dynamics damping="0.7" friction="0.0"/>
  </joint>
  <joint name="left_hand" type="fixed">
    <origin rpy="0 0 0" xyz="0 0 0.11355"/>
    <axis xyz="0 0 1"/>
    <parent link="left_wrist"/>
    <child link="left_hand"/>
  </joint>
  <joint name="left_hand_camera" type="fixed">
    <origin rpy="0 0 -1.57079633" xyz="0.03825 0.012 0.015355"/>
    <parent link="left_hand"/>
    <child link="left_hand_camera"/>
  </joint>
  <joint name="left_hand_camera_axis" type="fixed">
    <origin rpy="0 0 0" xyz="0.03825 0.012 0.015355"/>
    <parent link="left_hand"/>
    <child link="left_hand_camera_axis"/>
  </joint>
  <joint name="left_hand_range" type="fixed">
    <origin rpy="0 -1.57079632679 -1.57079632679" xyz="0.032 -0.020245 0.0288"/>
    <parent link="left_hand"/>
    <child link="left_hand_range"/>
  </joint>
  <joint name="left_hand_accelerometer" type="fixed">
    <origin rpy="0 0 0" xyz="0.00198 0.000133 -0.0146"/>
    <parent link="left_hand"/>
    <child link="left_hand_accelerometer"/>
  </joint>
  <!-- Left End Effector -->
  <!-- <xacro:include filename="$(find baxter_robot_model)/models/end_effectors/left_end_effector.urdf" /> -->
  <!-- Base of end effector -->
  <link name="right_gripper_base">
    <visual>
      <origin rpy="-1.57079632679 3.14159265359 0" xyz="0 0 0"/>
      <geometry>
        <mesh filename="package://rethink_ee_description/meshes/electric_gripper/electric_gripper_base.DAE"/>
      </geometry>
    </visual>
    <collision>
      <origin rpy="-1.57079632679 3.14159265359 0" xyz="0.0 0.0 0"/>
      <geometry>
        <cylinder length="0.1" radius="0.029"/>
      </geometry>
      <material name="darkred">
        <color rgba=".5 .1 .1 1"/>
      </material>
    </collision>
    <inertial>
      <origin rpy="-1.57079632679 3.14159265359 0" xyz="0.0 0.0 0.0"/>
      <mass value="0.3"/>
      <inertia ixx="2e-08" ixy="0" ixz="0" iyy="3e-08" iyz="0" izz="2e-08"/>
    </inertial>
  </link>
  <link name="r_gripper_l_finger">
    <visual>
      <origin rpy="0 0 -3.14159265359" xyz="0 0 0"/>
      <geometry>
        <mesh filename="package://rethink_ee_description/meshes/electric_gripper/fingers/extended_narrow.DAE"/>
      </geometry>
    </visual>
    <collision>
      <origin rpy="0 0 -3.14159265359" xyz="0 0.01725 0.0615"/>
      <geometry>
        <box size="0.01 0.0135 0.1127"/>
      </geometry>
    </collision>
    <collision>
      <origin rpy="0 0 -3.14159265359" xyz="-0.005 -0.003 0.0083"/>
      <geometry>
        <box size="0.01 0.05 0.017"/>
      </geometry>
    </collision>
    <inertial>
      <origin rpy="0 0 -3.14159265359" xyz="0 0 0"/>
      <mass value="0.02"/>
      <inertia ixx="0.01" ixy="0" ixz="0" iyy="0.01" iyz="0" izz="0.01"/>
    </inertial>
  </link>
  <gazebo reference="r_gripper_l_finger">
    <mu1>1000</mu1>
    <mu2>1000</mu2>
    <fdir1>0.0 0.0 1.0</fdir1>
    <kp>1e5</kp>
    <kd>1.0</kd>
  </gazebo>
  <link name="r_gripper_l_finger_tip">
    <visual>
      <origin rpy="0 0 3.14159265359" xyz="0 0 0"/>
      <geometry>
        <mesh filename="package://rethink_ee_description/meshes/electric_gripper/fingers/half_round_tip.DAE"/>
      </geometry>
    </visual>
    <collision>
      <origin rpy="0 0 3.14159265359" xyz="0 -0.0045 -0.015"/>
      <geometry>
        <cylinder length="0.037" radius="0.008"/>
      </geometry>
    </collision>
    <inertial>
      <origin rpy="0 0 3.14159265359" xyz="0 0 0"/>
      <mass value="0.01"/>
      <inertia ixx="0.01" ixy="0" ixz="0" iyy="0.01" iyz="0" izz="0.01"/>
    </inertial>
  </link>
  <joint name="r_gripper_l_finger_tip_joint" type="fixed">
    <origin rpy="0 0 0" xyz="0.0 0.01725 0.1127"/>
    <parent link="r_gripper_l_finger"/>
    <child link="r_gripper_l_finger_tip"/>
  </joint>
  <link name="r_gripper_r_finger">
    <visual>
      <origin rpy="0 0 -0.0" xyz="0 0 0"/>
      <geometry>
        <mesh filename="package://rethink_ee_description/meshes/electric_gripper/fingers/extended_narrow.DAE"/>
      </geometry>
    </visual>
    <collision>
      <origin rpy="0 0 -0.0" xyz="0 -0.01725 0.0615"/>
      <geometry>
        <box size="0.01 0.0135 0.1127"/>
      </geometry>
    </collision>
    <collision>
      <origin rpy="0 0 -0.0" xyz="0.005 0.003 0.0083"/>
      <geometry>
        <box size="0.01 0.05 0.017"/>
      </geometry>
    </collision>
    <inertial>
      <origin rpy="0 0 -0.0" xyz="0 0 0"/>
      <mass value="0.02"/>
      <inertia ixx="0.01" ixy="0" ixz="0" iyy="0.01" iyz="0" izz="0.01"/>
    </inertial>
  </link>
  <gazebo reference="r_gripper_r_finger">
    <mu1>1000</mu1>
    <mu2>1000</mu2>
    <fdir1>0.0 0.0 1.0</fdir1>
    <kp>1e5</kp>
    <kd>1.0</kd>
  </gazebo>
  <link name="r_gripper_r_finger_tip">
    <visual>
      <origin rpy="0 0 0.0" xyz="0 0 0"/>
      <geometry>
        <mesh filename="package://rethink_ee_description/meshes/electric_gripper/fingers/half_round_tip.DAE"/>
      </geometry>
    </visual>
    <collision>
      <origin rpy="0 0 0.0" xyz="0 0.0045 -0.015"/>
      <geometry>
        <cylinder length="0.037" radius="0.008"/>
      </geometry>
    </collision>
    <inertial>
      <origin rpy="0 0 0.0" xyz="0 0 0"/>
      <mass value="0.01"/>
      <inertia ixx="0.01" ixy="0" ixz="0" iyy="0.01" iyz="0" izz="0.01"/>
    </inertial>
  </link>
  <joint name="r_gripper_r_finger_tip_joint" type="fixed">
    <origin rpy="0 0 0" xyz="0.0 -0.01725 0.1127"/>
    <parent link="r_gripper_r_finger"/>
    <child link="r_gripper_r_finger_tip"/>
  </joint>
  <!-- Electric Gripper Base Joint -->
  <joint name="right_gripper_base" type="fixed">
    <origin rpy="0 0 0" xyz="0 0 0.025"/>
    <parent link="right_hand"/>
    <child link="right_gripper_base"/>
  </joint>
  <!-- Electric Gripper Tip joint -->
  <joint name="right_endpoint" type="fixed">
    <origin rpy="0 0 0" xyz="0 0 0.1327"/>
    <parent link="right_gripper_base"/>
    <child link="right_gripper"/>
  </joint>
  <!-- Electric Gripper Tip link -->
  <link name="right_gripper">
    <inertial>
      <origin rpy="0 0 0" xyz="0 0 0"/>
      <mass value="0.0001"/>
      <inertia ixx="0" ixy="0" ixz="0" iyy="0" iyz="0" izz="0.0"/>
    </inertial>
  </link>
  <joint name="r_gripper_l_finger_joint" type="fixed">
    <origin rpy="0 0 0" xyz="0.0 0.03 0.02"/>
    <axis xyz="0 1 0"/>
    <parent link="right_gripper_base"/>
    <child link="r_gripper_l_finger"/>
    <limit effort="20.0" lower="0.0" upper="0.020833" velocity="5.0"/>
    <dynamics damping="0.7" friction="0.0"/>
  </joint>
  <joint name="r_gripper_r_finger_joint" type="fixed">
    <origin rpy="0 0 0" xyz="0.0 -0.03 0.02"/>
    <axis xyz="0 1 0"/>
    <parent link="right_gripper_base"/>
    <child link="r_gripper_r_finger"/>
    <limit effort="20.0" lower="-0.020833" upper="0.0" velocity="5.0"/>
    <mimic joint="r_gripper_l_finger_joint" multiplier="-1.0"/>
    <dynamics damping="0.7" friction="0.0"/>
  </joint>
  <transmission name="gripper_right1">
    <type>transmission_interface/SimpleTransmission</type>
    <joint name="r_gripper_r_finger_joint">
      <hardwareInterface>EffortJointInterface</hardwareInterface>
    </joint>
    <actuator name="gripper_r1_motor1">
      <hardwareInterface>EffortJointInterface</hardwareInterface>
      <mechanicalReduction>1</mechanicalReduction>
    </actuator>
  </transmission>
  <transmission name="gripper_right2">
    <type>transmission_interface/SimpleTransmission</type>
    <joint name="r_gripper_l_finger_joint">
      <hardwareInterface>EffortJointInterface</hardwareInterface>
    </joint>
    <actuator name="gripper_r1_motor2">
      <hardwareInterface>EffortJointInterface</hardwareInterface>
      <mechanicalReduction>1</mechanicalReduction>
    </actuator>
  </transmission>
  <gazebo reference="r_gripper_r_finger_joint">
    <implicitSpringDamper>1</implicitSpringDamper>
  </gazebo>
  <gazebo reference="r_gripper_l_finger_joint">
    <implicitSpringDamper>1</implicitSpringDamper>
  </gazebo>
</robot>
